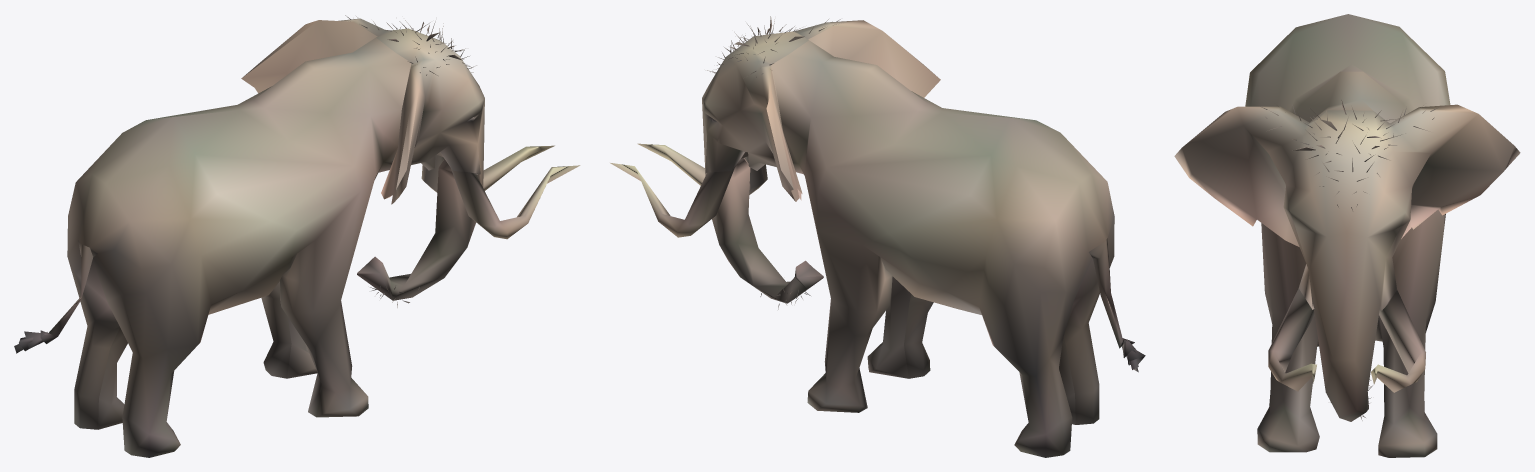
Rendered from elephant.glb.
3 renders of one model, left to right at view 1: azimuth 30°, elevation 25°; view 2: azimuth 150°, elevation 25°; view 3: azimuth 270°, elevation 25°, orthographic. The views are drawn at different scales.
Visible parts, largest first — view 1: Object_7; view 2: Object_7; view 3: Object_7.
Part boxes in pixels (left/top/right/bottom): Object_7: left=14, top=15, right=580, bottom=457; Object_7: left=610, top=16, right=1145, bottom=457; Object_7: left=1174, top=14, right=1520, bottom=457.
Bounding box in the file's own units: 147 × 88.31 × 71.8.
